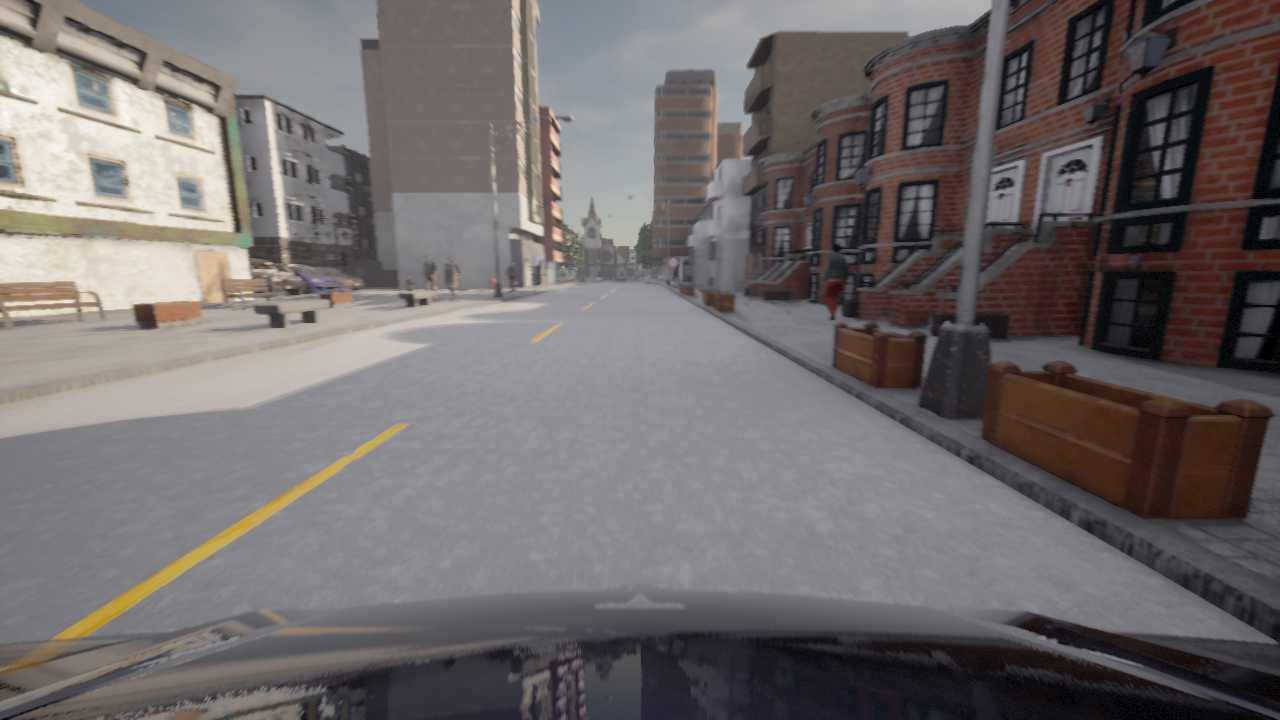cyclist: (0, 584, 1279, 719), (248, 259, 305, 296), (272, 264, 341, 293), (313, 267, 363, 291), (253, 290, 254, 293)
pedestrian: (821, 243, 848, 320), (443, 255, 460, 300), (423, 253, 437, 301), (507, 262, 515, 291), (404, 274, 414, 291), (449, 294, 456, 299)
